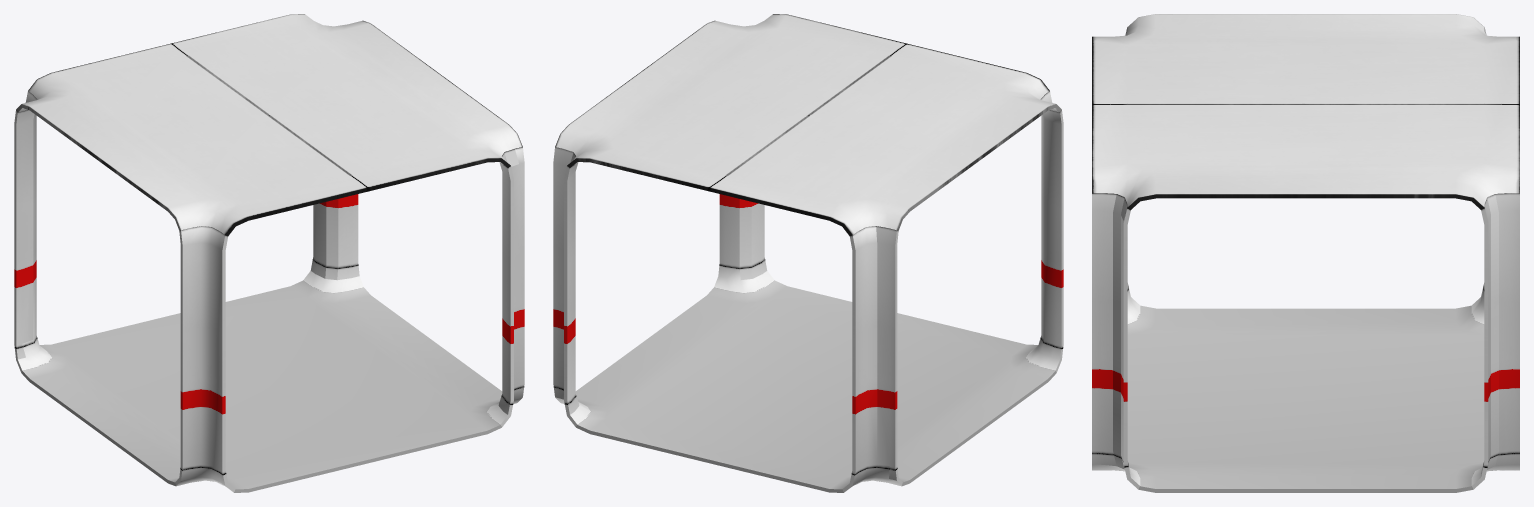
Rendered from Geo_Hallway_XIntersection 1.FBX.
3 renders of one model, left to right at view 1: azimuth 30°, elevation 25°; view 2: azimuth 150°, elevation 25°; view 3: azimuth 270°, elevation 25°, orthographic. The views are drawn at different scales.
Parts seen in each view (by area): view 1: HallWay_XIntersection_001; view 2: HallWay_XIntersection_001; view 3: HallWay_XIntersection_001.
Boxes of the visible parts, left/top/right/bottom form: HallWay_XIntersection_001: left=14, top=14, right=524, bottom=492; HallWay_XIntersection_001: left=553, top=14, right=1063, bottom=492; HallWay_XIntersection_001: left=1092, top=14, right=1519, bottom=492.
Bounding box in the file's own units: 3 × 2.31 × 3.
